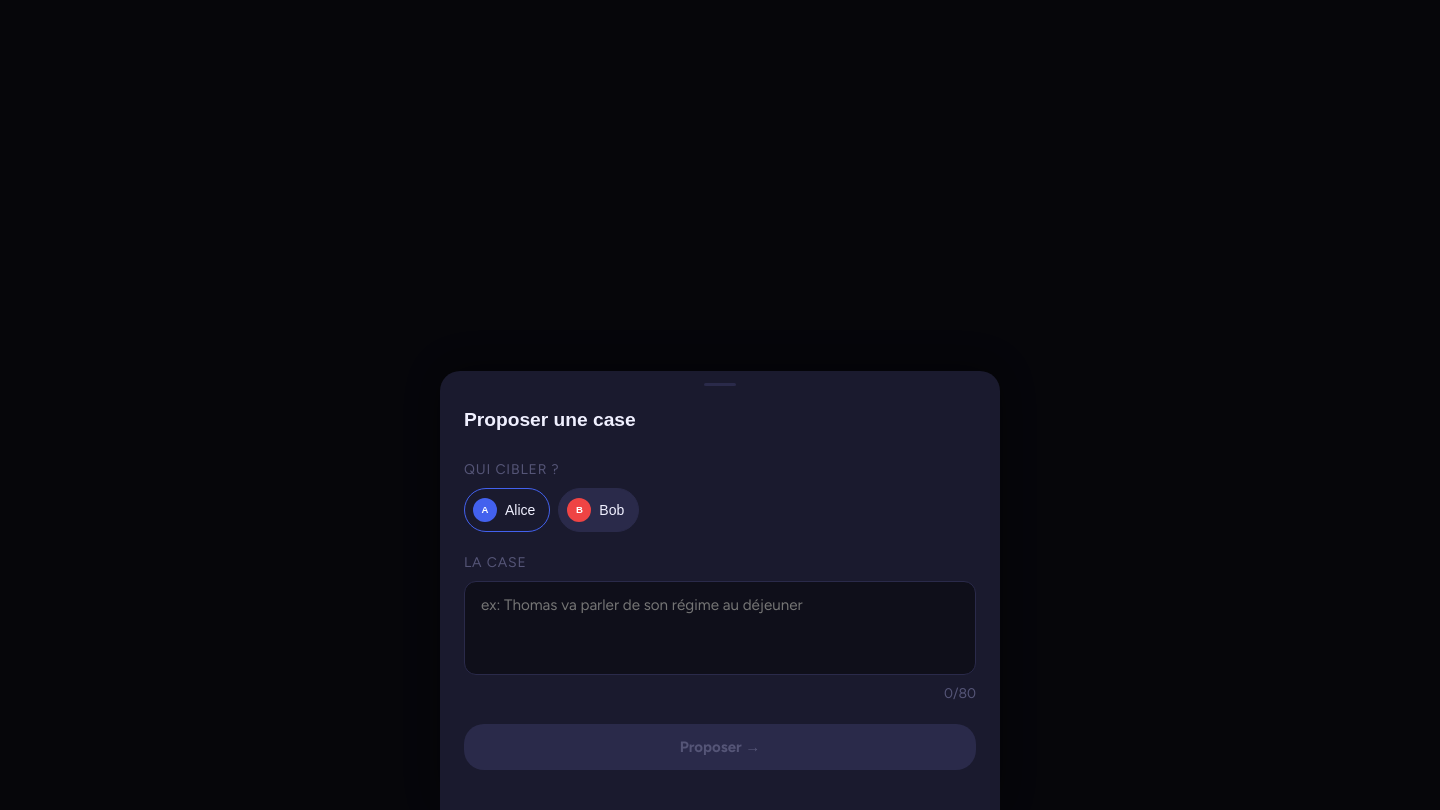
Test case: ProposeCell — submission › shows DB error when insert fails
Check: the text "Alice" is shown, box [505, 502, 535, 518]
In the text box with placeholder "ex: Thomas va parler de son régime au déjeuner": [720, 628] box [464, 581, 976, 675], type "Va faire du sport"
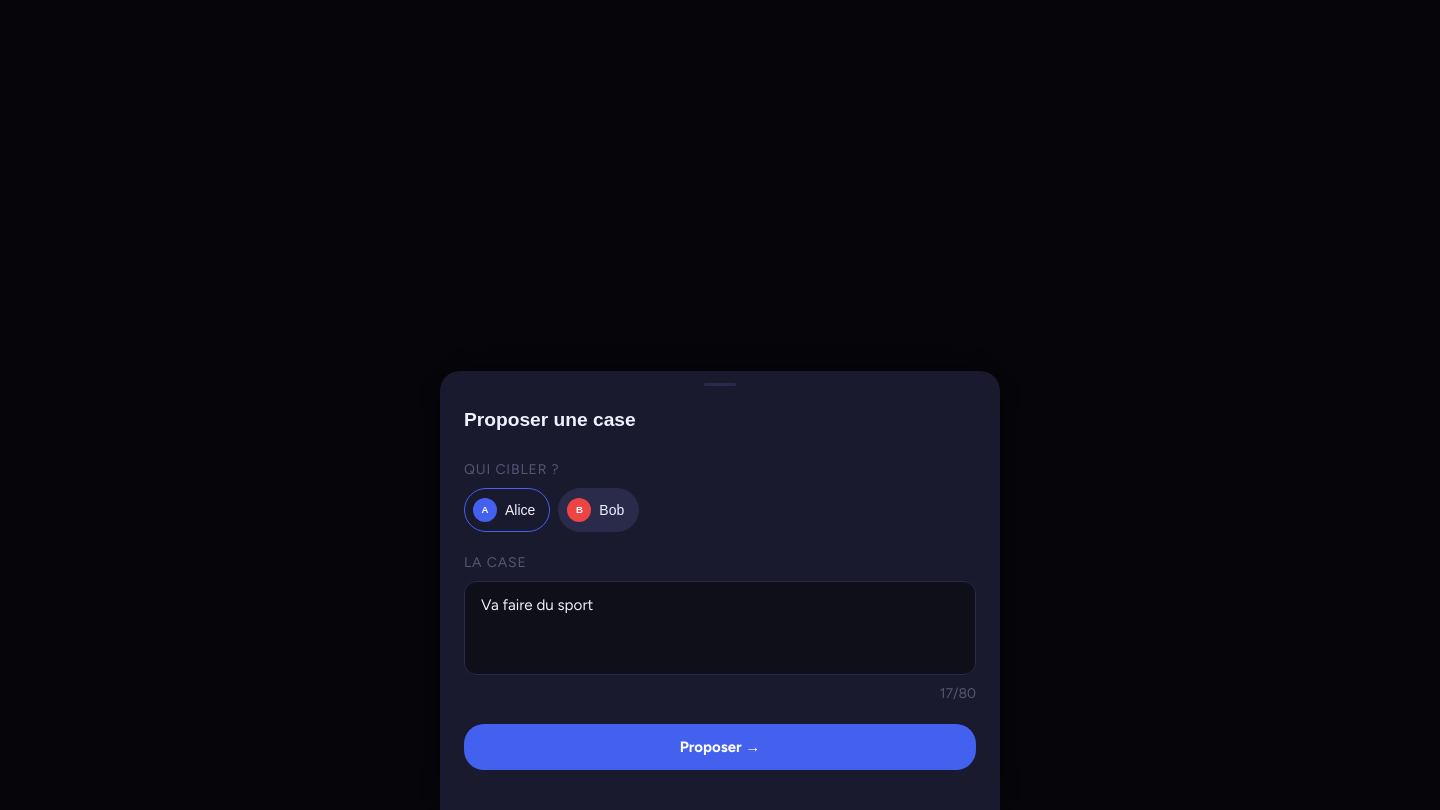
Click the button "Proposer →": [720, 747] box [464, 724, 976, 770]
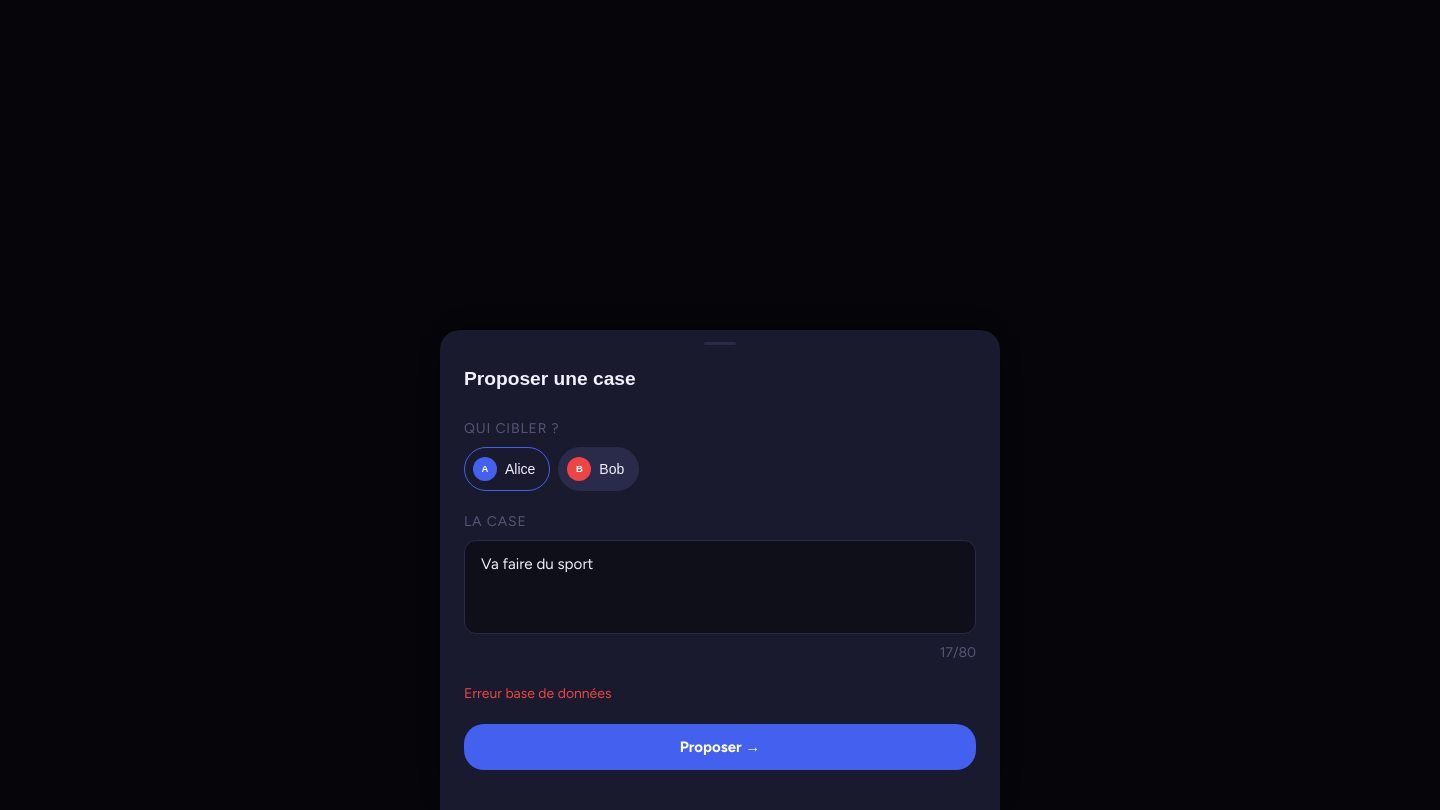
Check: the text "Erreur base de données" is shown, box [464, 685, 612, 702]
